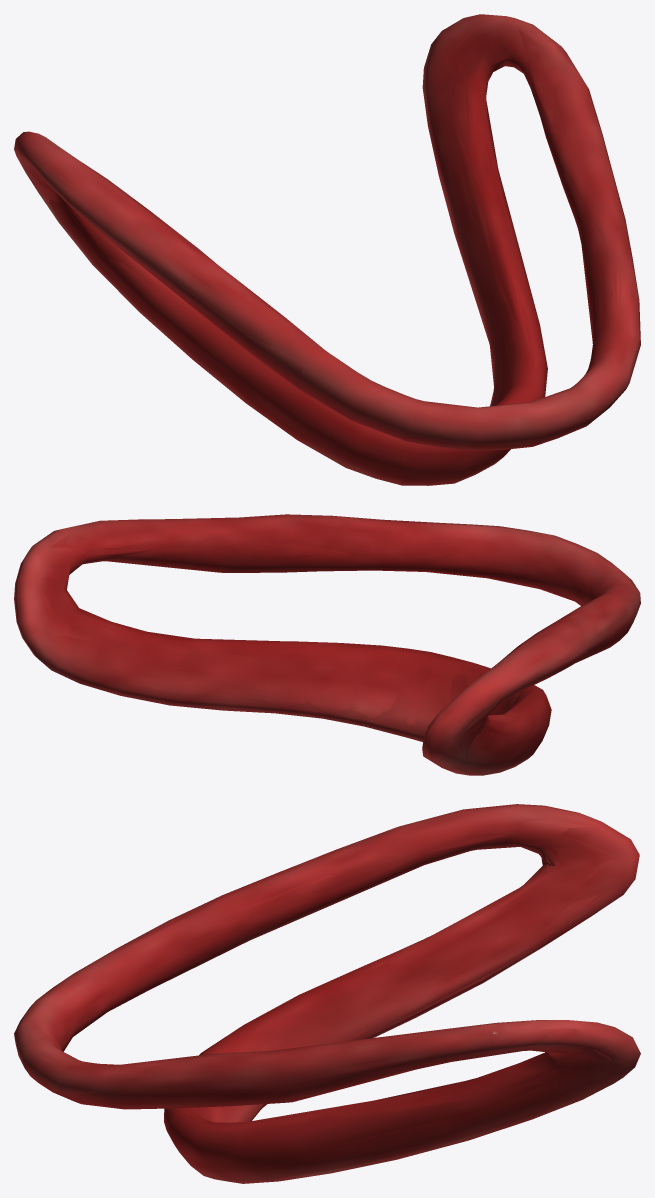
File: Orbicularis Oris.fbx
3 renders of one model, top to bottom at view 1: azimuth 30°, elevation 25°; view 2: azimuth 150°, elevation 25°; view 3: azimuth 270°, elevation 25°, orthographic. The views are drawn at different scales.
Visible parts, largest first — view 1: Orbicularis Oris, Orbicularis Oris low, Orbicularis Oris high; view 2: Orbicularis Oris, Orbicularis Oris low, Orbicularis Oris high; view 3: Orbicularis Oris, Orbicularis Oris low, Orbicularis Oris high.
Boxes of the visible parts, bbox=[...] form: Orbicularis Oris: bbox=[14, 14, 640, 485]; Orbicularis Oris low: bbox=[16, 18, 639, 485]; Orbicularis Oris high: bbox=[16, 18, 634, 475]; Orbicularis Oris: bbox=[14, 514, 640, 775]; Orbicularis Oris low: bbox=[15, 514, 640, 774]; Orbicularis Oris high: bbox=[22, 518, 638, 767]; Orbicularis Oris: bbox=[14, 804, 640, 1183]; Orbicularis Oris low: bbox=[14, 804, 639, 1181]; Orbicularis Oris high: bbox=[21, 808, 633, 1175].
Bounding box in the file's own units: 3.44 × 1.74 × 3.8.
